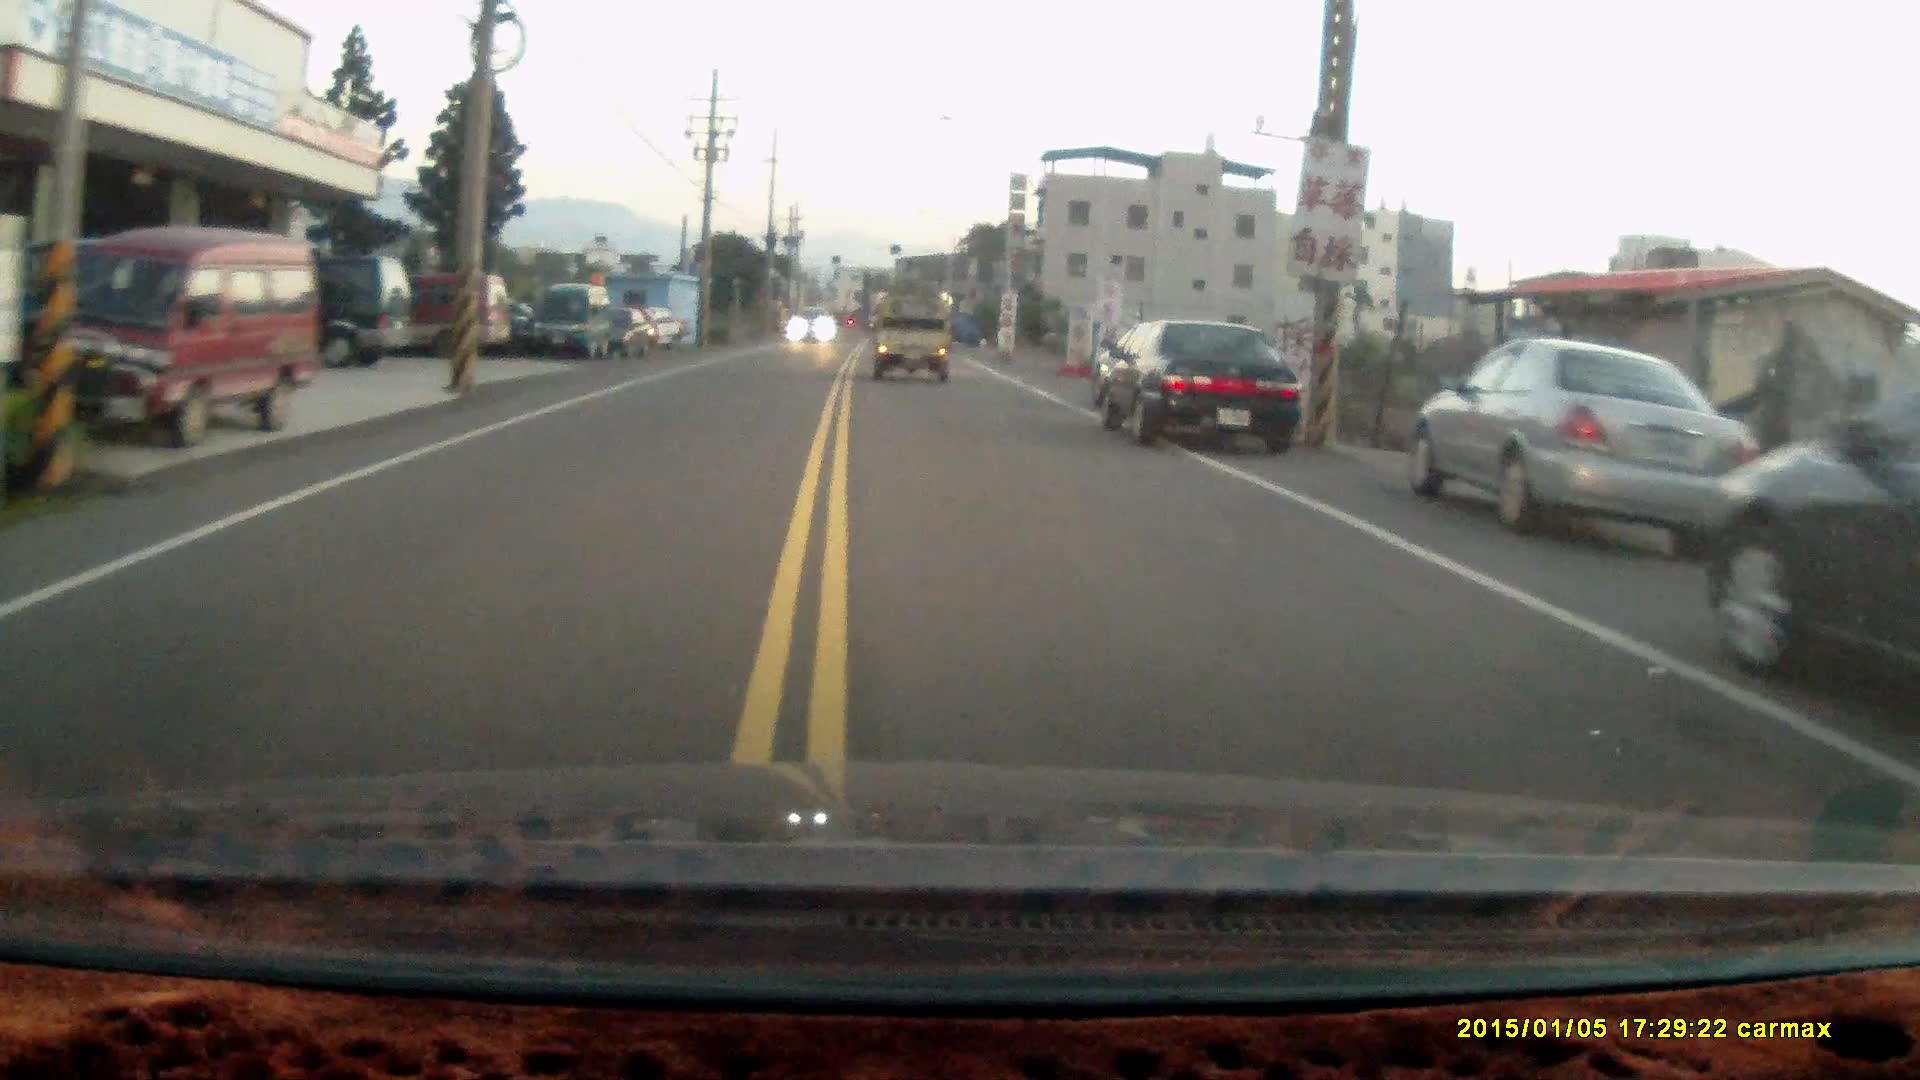vehicle: (1408, 335, 1759, 543), (1704, 382, 1920, 694), (30, 228, 324, 444), (1092, 316, 1304, 458), (202, 251, 419, 371), (352, 272, 521, 356), (870, 294, 957, 385), (531, 278, 616, 359)
